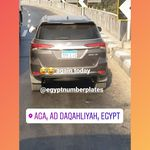carpl: (62, 51, 79, 59)
